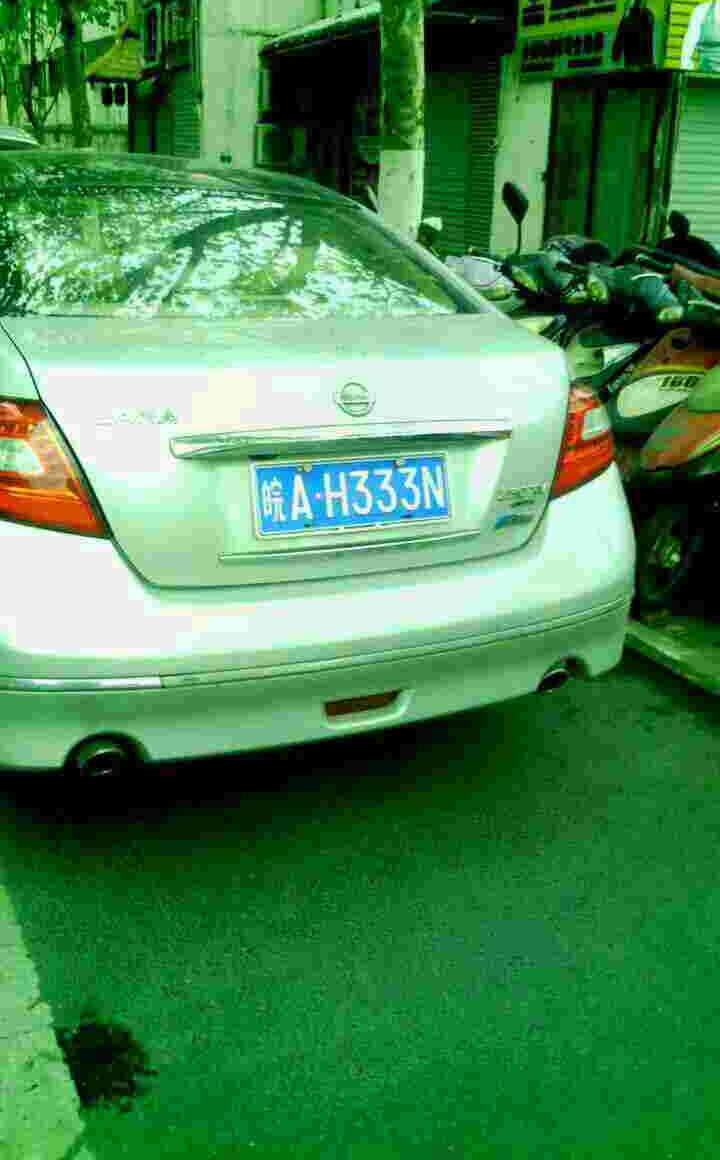plate: (259, 448, 457, 538)
